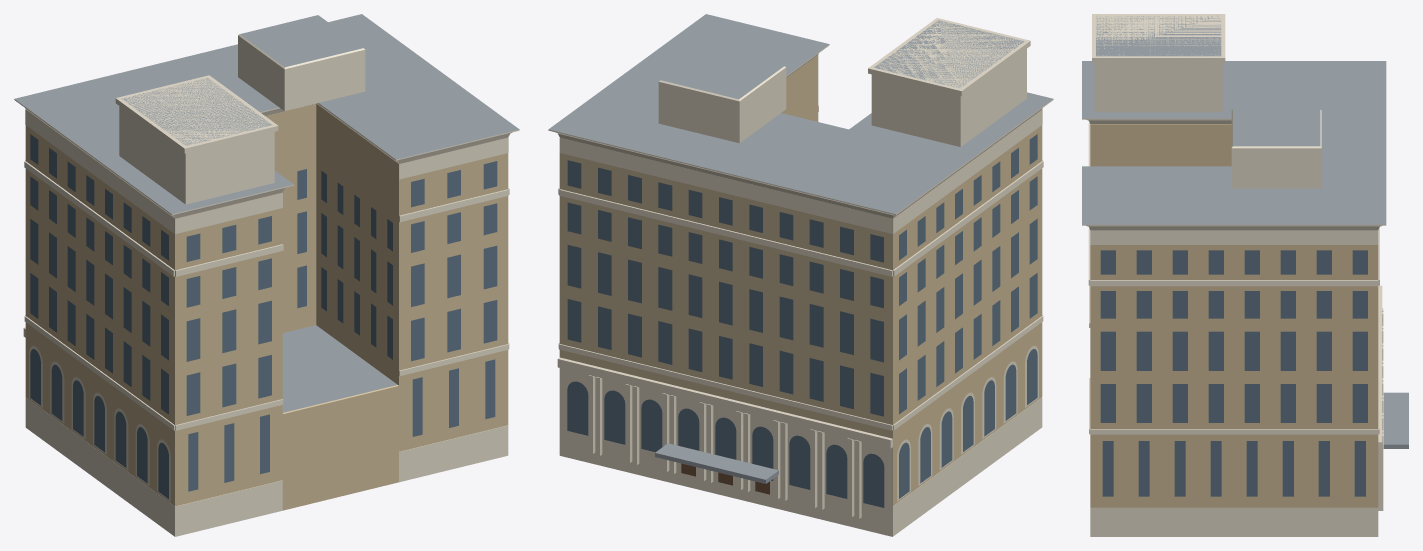
Rendered from nash-hermitage-hotel.glb.
3 renders of one model, left to right at view 1: azimuth 30°, elevation 25°; view 2: azimuth 150°, elevation 25°; view 3: azimuth 270°, elevation 25°, orthographic. The views are drawn at different scales.
Parts seen in each view (by area): view 1: The Hermitage Hotel; view 2: The Hermitage Hotel; view 3: The Hermitage Hotel.
Part boxes in pixels (<box>): The Hermitage Hotel: <box>14,14,519,536</box>; The Hermitage Hotel: <box>548,14,1053,536</box>; The Hermitage Hotel: <box>1082,14,1408,536</box>.
Size of the model in its own units: 43 by 45.5 by 36.3.
